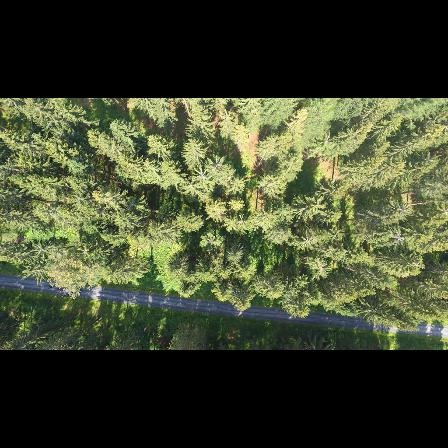Sick: (189, 164, 215, 185), (357, 159, 382, 180), (389, 231, 411, 248)
